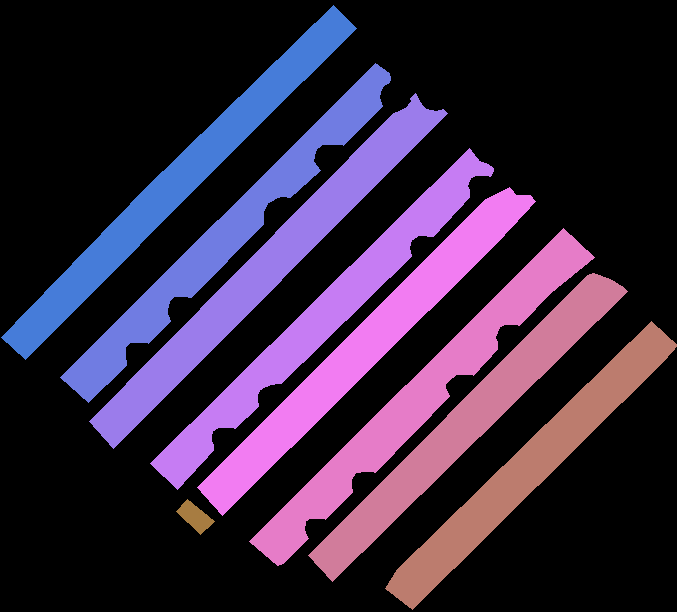parkingspot: (89, 93, 447, 448), (1, 5, 356, 359), (150, 148, 493, 489), (249, 228, 594, 565), (60, 63, 390, 402), (197, 187, 535, 515), (308, 273, 627, 581), (385, 321, 677, 609), (176, 499, 214, 534)
